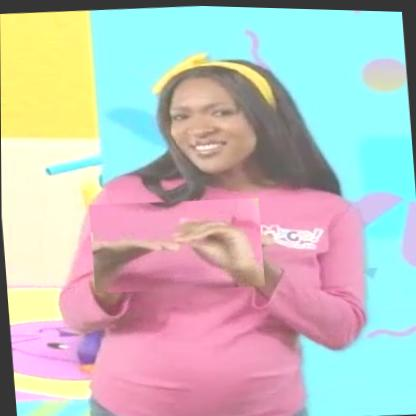ExcuseMe: (88, 193, 265, 296)
